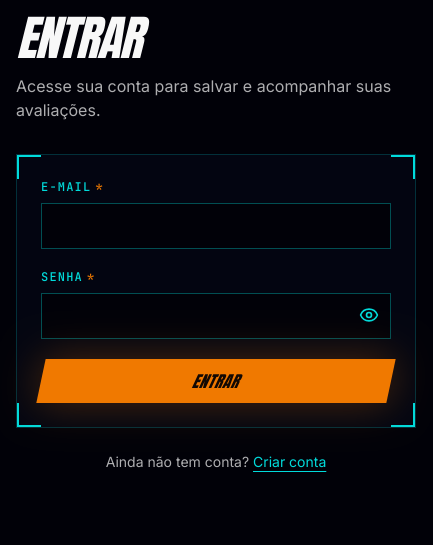
Test: LoginPage › valida os campos e foca o primeiro erro
The width and height of the screenshot is (433, 545).
Step 1. Click the button "Entrar" → x=216, y=381, box x1=36 y1=359 x2=396 y2=403
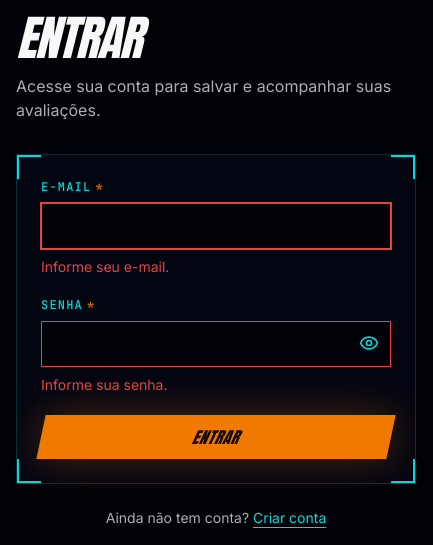
Expected: the text "Informe seu e-mail." is shown, x1=41 y1=258 x2=169 y2=275
Expected: the text "Informe sua senha." is shown, x1=41 y1=376 x2=168 y2=393
